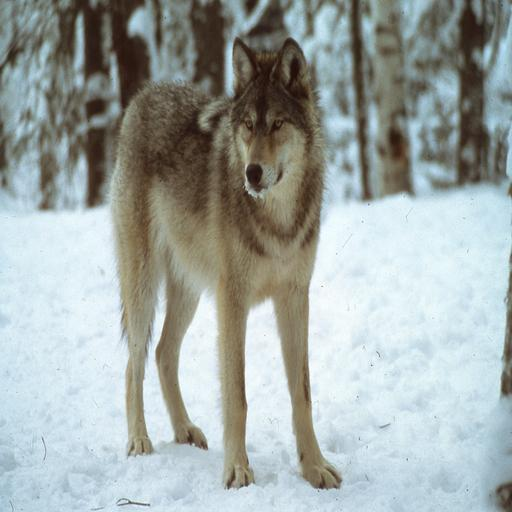Wolf: (102, 29, 348, 492)
